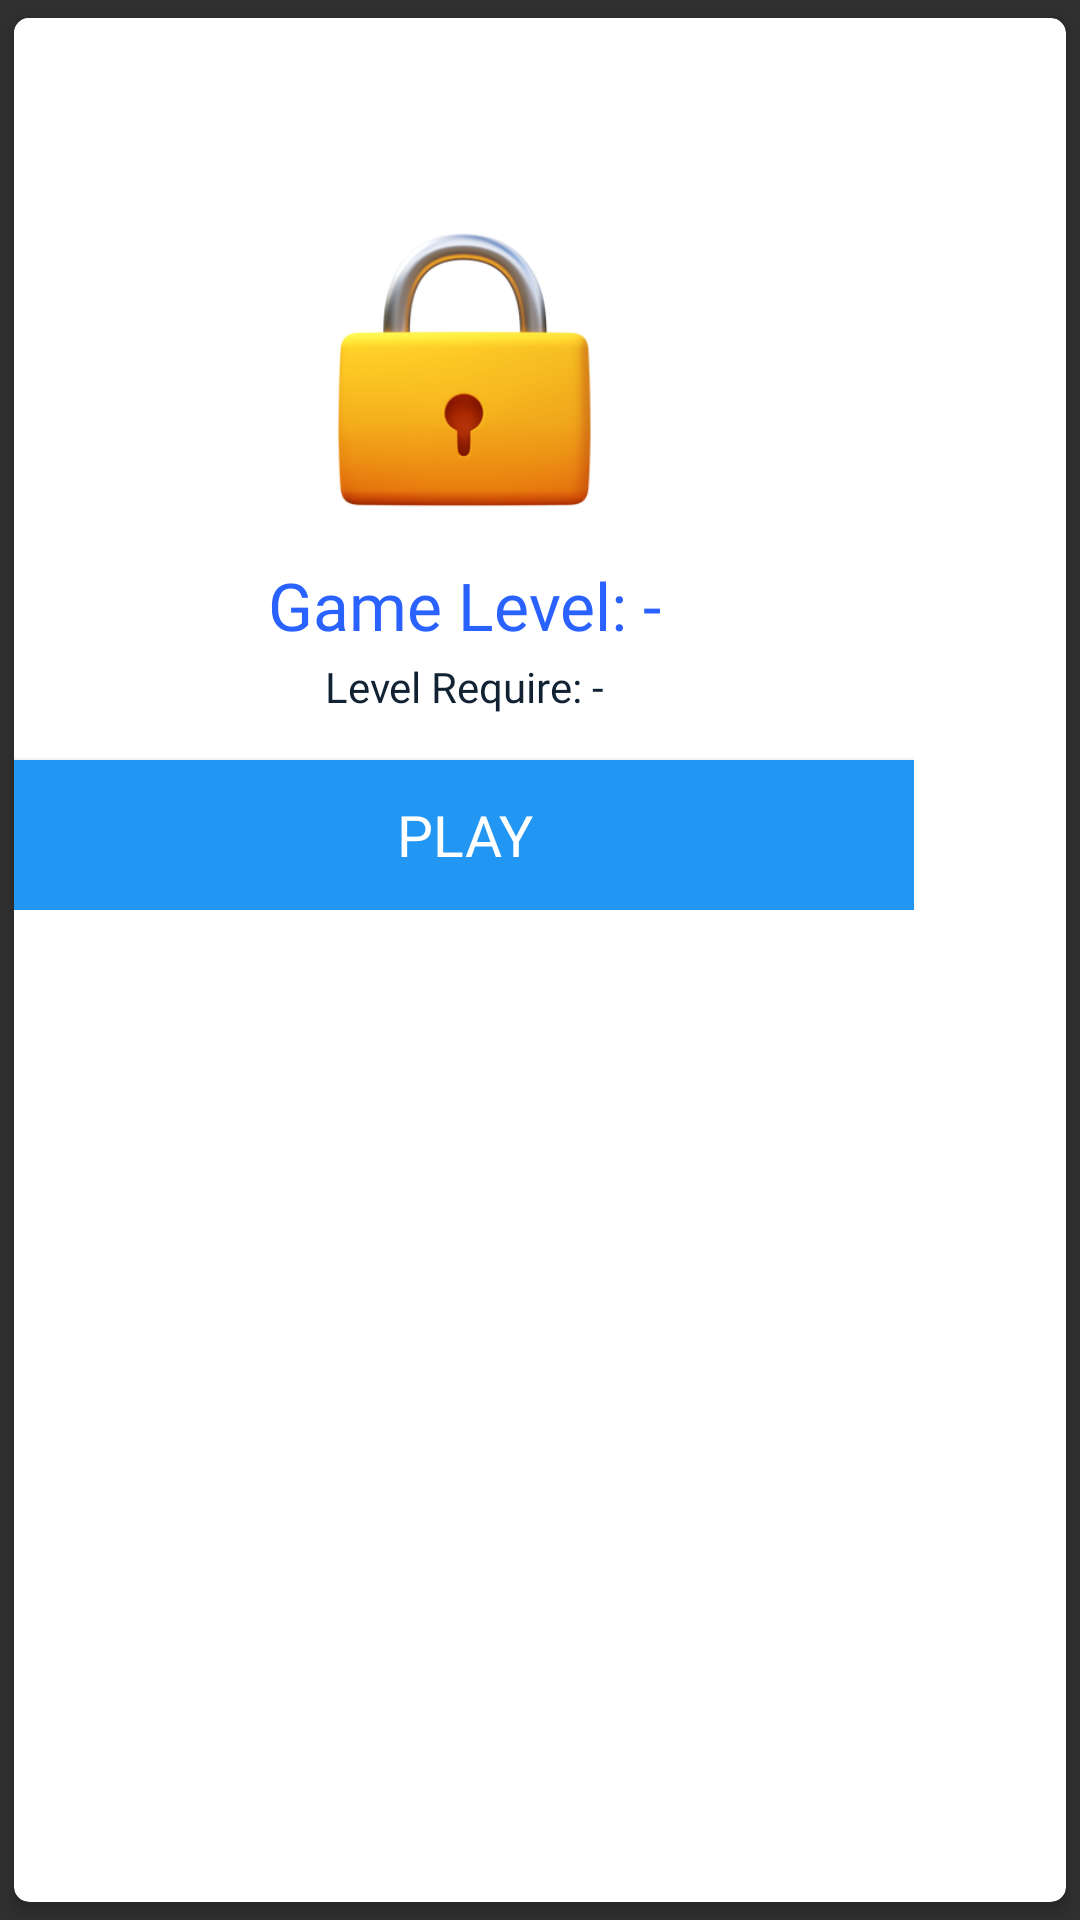

Where icons sit on this 1080x1920 app screen, as (x1, y1, x2, y2):
lock: (338, 234, 591, 506)
